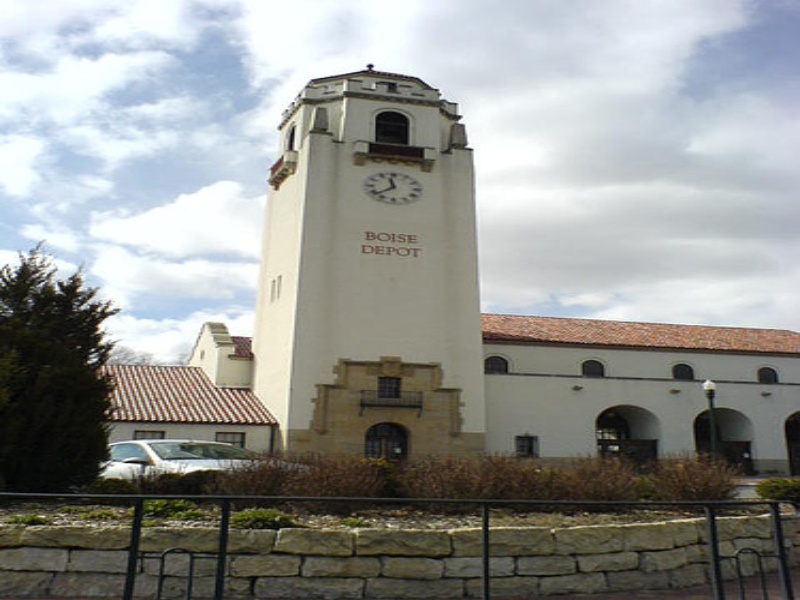car: (100, 438, 321, 479)
